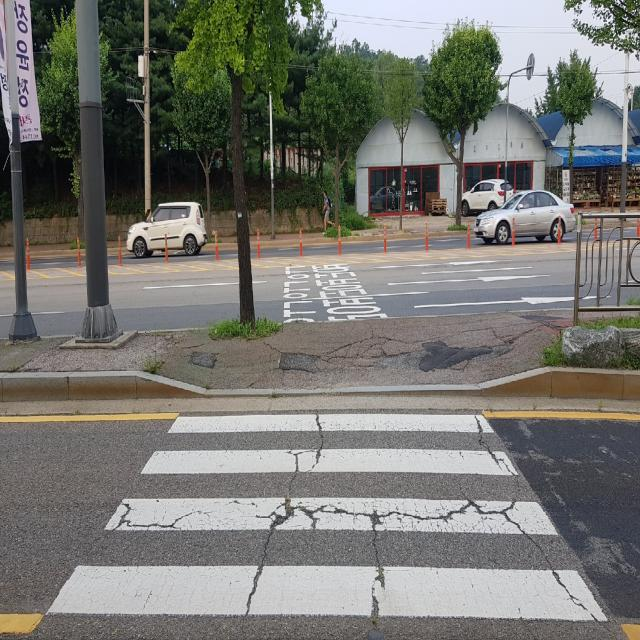횡단보도: (44, 408, 612, 628)
